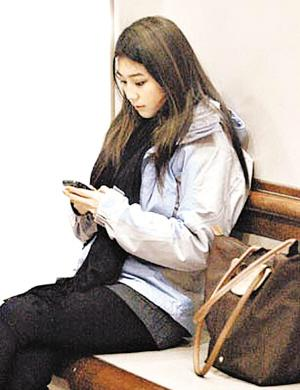person: (2, 16, 248, 390)
